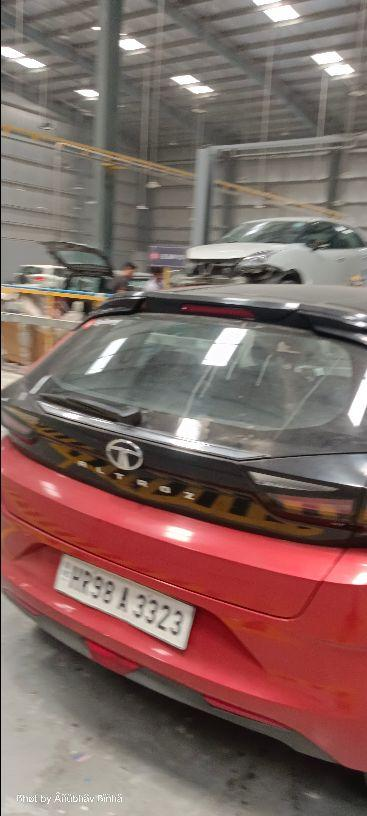license_plate: (52, 552, 197, 651)
